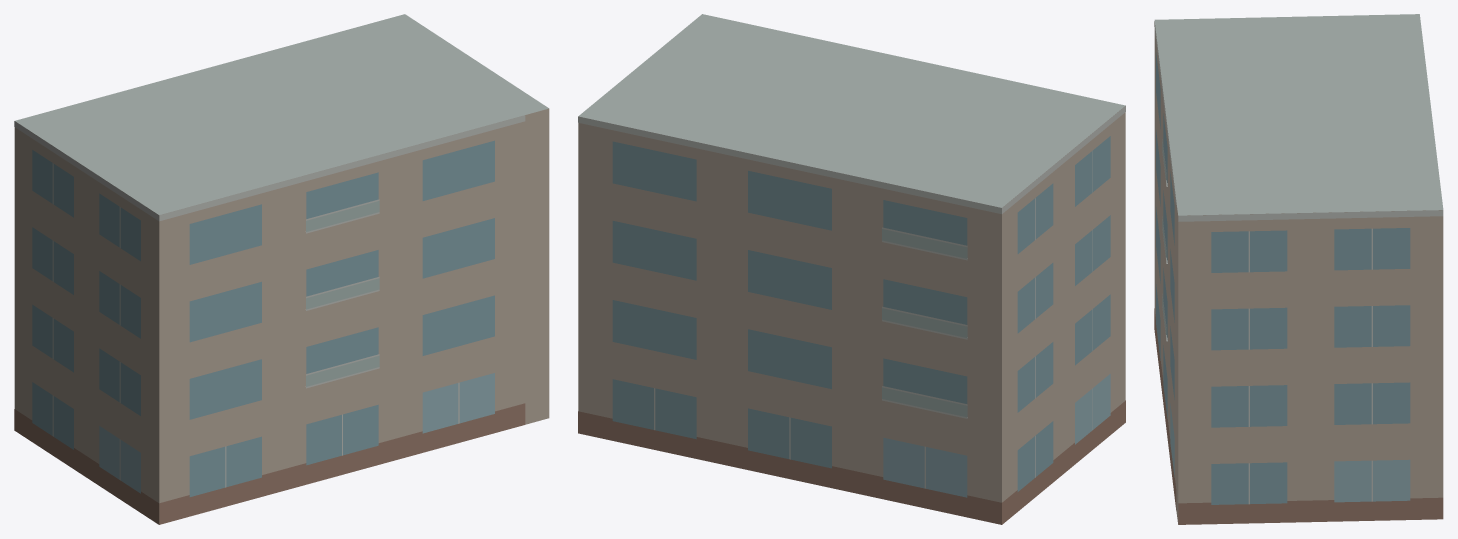
Rendered from residential-03414d6d-aff2-4f76-bc66-57bea5b592c6.glb.
3 views of the same model, side by side, from view 1: azimuth 30°, elevation 25°; view 2: azimuth 150°, elevation 25°; view 3: azimuth 270°, elevation 25° (orthographic). The views are drawn at different scales.
Visible parts, largest first — view 1: residential-03414d6d-aff2-4f76-bc66-57bea5b592c6.tmp; view 2: residential-03414d6d-aff2-4f76-bc66-57bea5b592c6.tmp; view 3: residential-03414d6d-aff2-4f76-bc66-57bea5b592c6.tmp.
Part boxes in pixels (left/top/right/bottom): residential-03414d6d-aff2-4f76-bc66-57bea5b592c6.tmp: left=14, top=14, right=549, bottom=524; residential-03414d6d-aff2-4f76-bc66-57bea5b592c6.tmp: left=578, top=14, right=1125, bottom=524; residential-03414d6d-aff2-4f76-bc66-57bea5b592c6.tmp: left=1154, top=14, right=1443, bottom=524.
Bounding box in the file's own units: 17.07 × 12.2 × 10.34.
